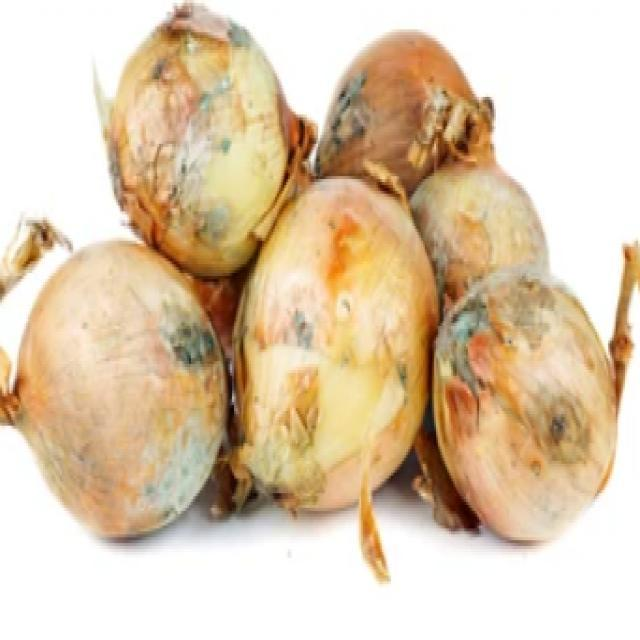sprouting: (176, 32, 234, 241), (440, 300, 511, 400), (155, 305, 223, 382), (324, 73, 371, 150)
